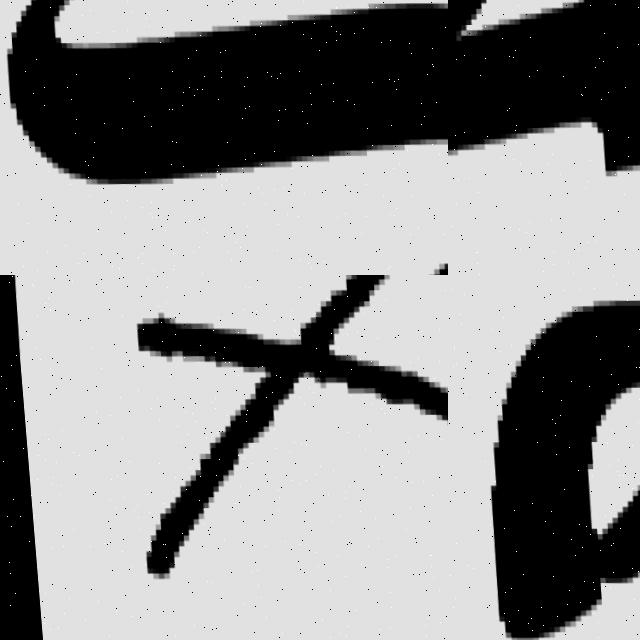8: (453, 275, 640, 640)
Q: (448, 0, 640, 235)
V: (0, 0, 448, 275)
X: (93, 275, 448, 585)
